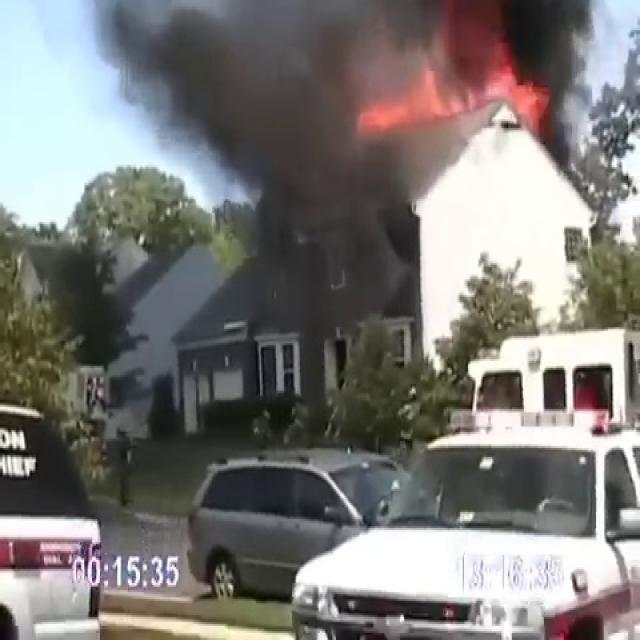Smoke: (42, 0, 636, 222)
